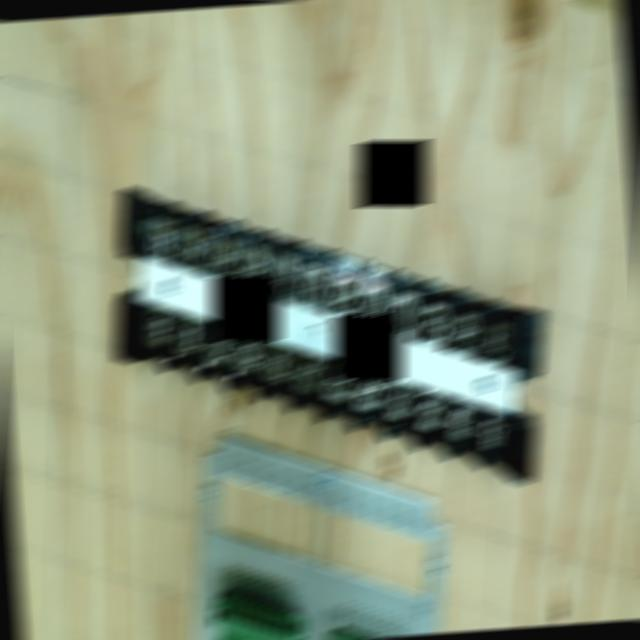Phillips_Block: (73, 187, 580, 483)
